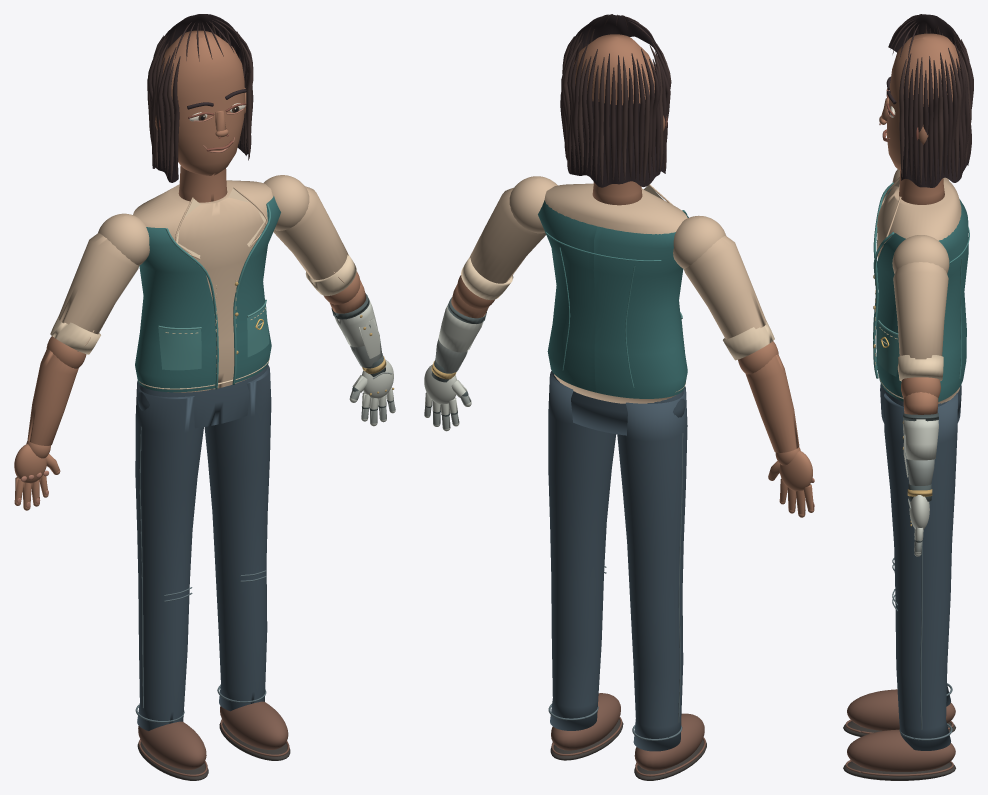
The picture shows the model from 3 angles, left to right: view 1: azimuth 30°, elevation 25°; view 2: azimuth 150°, elevation 25°; view 3: azimuth 270°, elevation 25°; orthographic projection. The views are drawn at different scales.
Parts seen in each view (by area): view 1: Right trouser leg, Left trouser leg, Cotton blouse, Right vest panel, Face and head, Right upper sleeve, Left upper sleeve, Left vest panel, Right forearm, Trouser waist, Right shoe upper, Left shoe upper (+14 smaller); view 2: Right trouser leg, Left trouser leg, Right vest panel, Left vest panel, Cotton blouse, Right upper sleeve, Left upper sleeve, Right forearm, Face and head, Hair | continuous back and sides, Trouser waist, Right tailored sleeve cap (+13 smaller); view 3: Left trouser leg, Left vest panel, Left upper sleeve, Face and head, Cotton blouse, Left shoe upper, Right shoe upper, Left tailored sleeve cap, Hair | continuous back and sides, Left prosthesis socket, Hair | wavy cap, Left rolled cuff (+29 smaller).
Part boxes in pixels (x1,y1,x2,y2): Right trouser leg: (135, 381, 203, 730); Left trouser leg: (204, 365, 271, 711); Cotton blouse: (133, 180, 272, 392); Right vest panel: (135, 227, 216, 392); Face and head: (161, 30, 244, 175); Right upper sleeve: (58, 233, 138, 334); Left upper sleeve: (273, 186, 348, 279); Left vest panel: (235, 196, 280, 382); Right forearm: (27, 349, 78, 445); Trouser waist: (137, 365, 267, 428); Right shoe upper: (138, 721, 206, 769); Left shoe upper: (220, 701, 288, 749); Right trouser leg: (617, 386, 687, 751); Left trouser leg: (548, 371, 616, 730); Right vest panel: (593, 214, 688, 398); Left vest panel: (538, 200, 597, 392); Cotton blouse: (544, 183, 687, 403); Right upper sleeve: (683, 235, 766, 339); Left upper sleeve: (469, 187, 545, 283); Right forearm: (745, 354, 799, 452); Face and head: (573, 34, 655, 105); Hair | continuous back and sides: (566, 96, 665, 187); Trouser waist: (552, 372, 685, 435); Right tailored sleeve cap: (673, 215, 726, 268); Left trouser leg: (884, 392, 957, 750); Left vest panel: (876, 211, 968, 401); Left upper sleeve: (893, 262, 948, 359); Face and head: (887, 33, 960, 170); Cotton blouse: (877, 177, 961, 403); Left shoe upper: (847, 729, 955, 771); Right shoe upper: (847, 689, 955, 730); Left tailored sleeve cap: (892, 235, 949, 273); Hair | continuous back and sides: (901, 102, 969, 187); Left prosthesis socket: (903, 419, 938, 460); Hair | wavy cap: (888, 14, 969, 89); Left rolled cuff: (898, 355, 943, 381).
Size of the model in its own units: 1.04 by 1.91 by 0.3076.
